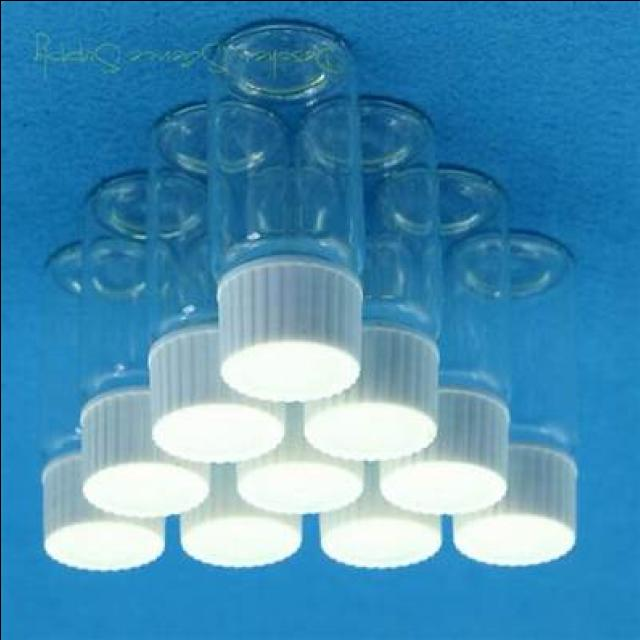vial: (62, 451, 202, 514), (224, 328, 348, 396), (176, 514, 304, 578), (308, 394, 428, 461), (240, 450, 358, 512), (154, 397, 270, 457), (388, 449, 492, 509), (325, 514, 436, 570), (460, 512, 570, 564), (40, 520, 154, 567)
